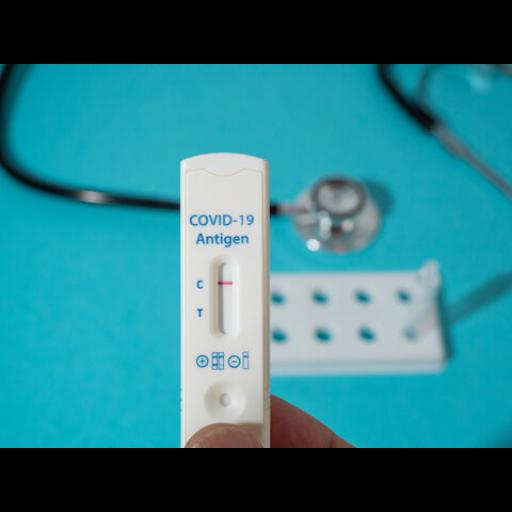Neg: (180, 154, 270, 444)
